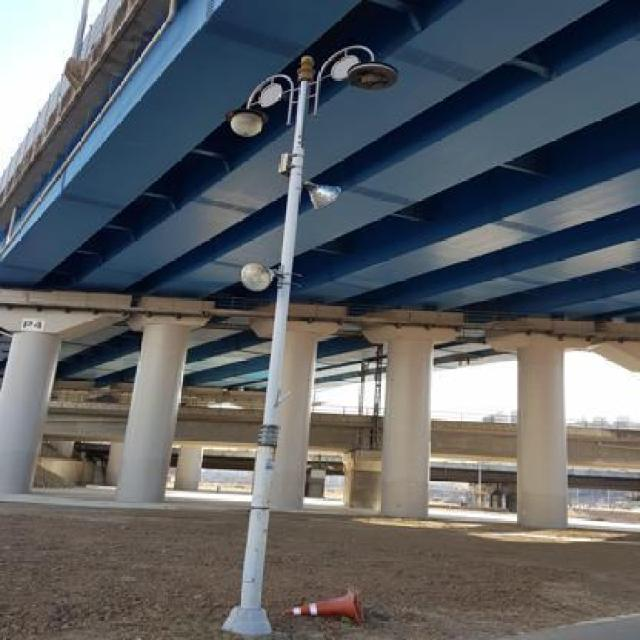pole: (220, 144, 316, 638)
